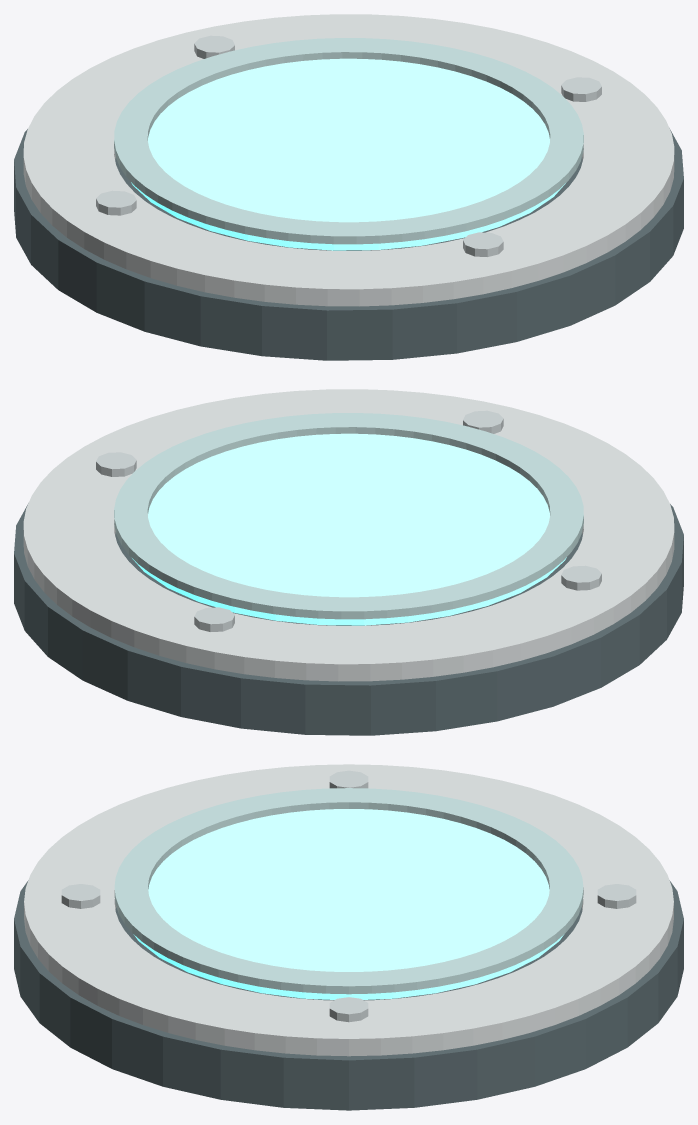
Rendered from s7-lf2-recessed-puck-medium.glb.
The picture shows the model from 3 angles, top to bottom: view 1: azimuth 30°, elevation 25°; view 2: azimuth 150°, elevation 25°; view 3: azimuth 270°, elevation 25°; orthographic projection.
Parts seen in each view (by area): view 1: 001_annular_chrome_recess, 002_top_emitter_glow, 000_embedded_lowprofile_chassis, 003_diffuser_rim, 004_flush_mount_screw, 006_flush_mount_screw, 005_flush_mount_screw, 007_flush_mount_screw; view 2: 001_annular_chrome_recess, 002_top_emitter_glow, 000_embedded_lowprofile_chassis, 003_diffuser_rim, 004_flush_mount_screw, 006_flush_mount_screw, 007_flush_mount_screw, 005_flush_mount_screw; view 3: 001_annular_chrome_recess, 002_top_emitter_glow, 000_embedded_lowprofile_chassis, 003_diffuser_rim, 004_flush_mount_screw, 005_flush_mount_screw, 007_flush_mount_screw, 006_flush_mount_screw.
Part boxes in pixels (x1,y1,x2,y2): 001_annular_chrome_recess: [23, 14, 674, 306]; 002_top_emitter_glow: [131, 58, 565, 250]; 000_embedded_lowprofile_chassis: [14, 128, 683, 360]; 003_diffuser_rim: [114, 38, 583, 244]; 004_flush_mount_screw: [561, 77, 601, 101]; 006_flush_mount_screw: [96, 190, 136, 215]; 005_flush_mount_screw: [463, 232, 503, 256]; 007_flush_mount_screw: [194, 35, 234, 58]; 001_annular_chrome_recess: [23, 389, 674, 681]; 002_top_emitter_glow: [132, 433, 566, 625]; 000_embedded_lowprofile_chassis: [14, 503, 683, 735]; 003_diffuser_rim: [114, 413, 583, 619]; 004_flush_mount_screw: [96, 452, 136, 476]; 006_flush_mount_screw: [561, 565, 601, 590]; 007_flush_mount_screw: [194, 607, 234, 631]; 005_flush_mount_screw: [463, 410, 503, 433]; 001_annular_chrome_recess: [24, 764, 673, 1056]; 002_top_emitter_glow: [133, 809, 564, 999]; 000_embedded_lowprofile_chassis: [14, 880, 683, 1110]; 003_diffuser_rim: [114, 788, 583, 994]; 004_flush_mount_screw: [329, 997, 368, 1022]; 005_flush_mount_screw: [61, 884, 100, 908]; 007_flush_mount_screw: [597, 884, 636, 908]; 006_flush_mount_screw: [329, 770, 368, 788].
Bounding box in the file's own units: 0.23 × 0.031 × 0.23.
